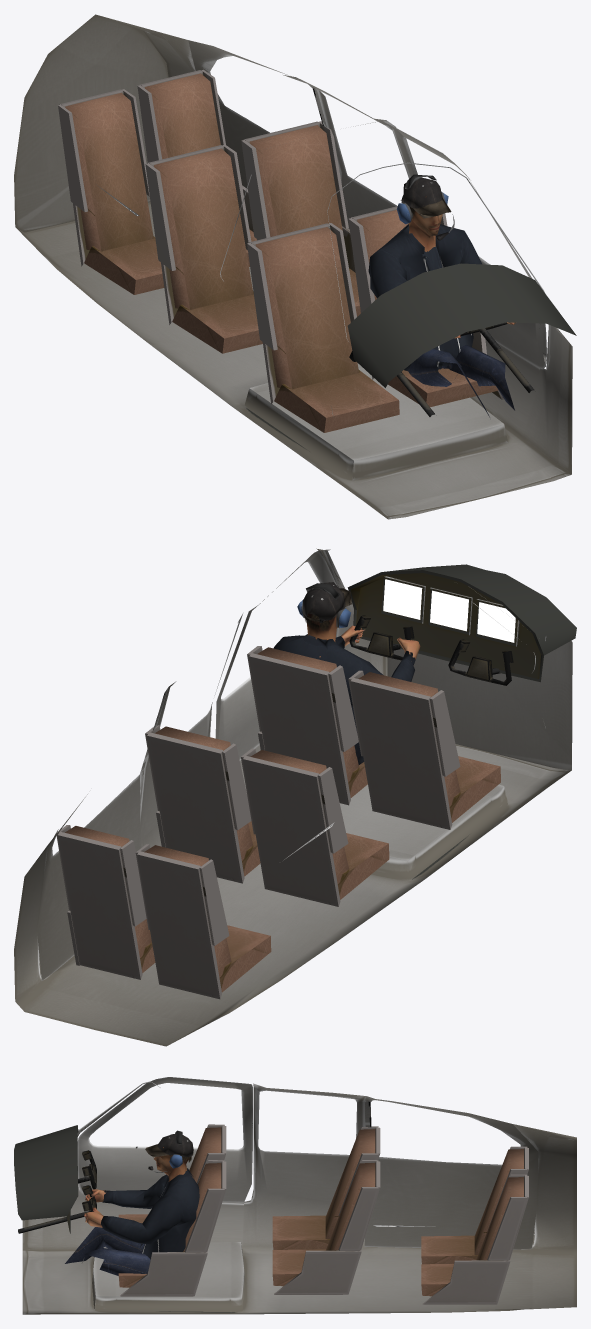
File: GaugeAircraft_Interior_LOD01.gltf
3 views of the same model, one above another, from view 1: azimuth 30°, elevation 25°; view 2: azimuth 150°, elevation 25°; view 3: azimuth 270°, elevation 25° (orthographic). The views are drawn at different scales.
Visible parts, largest first — view 1: Interior, pilot; view 2: Interior, pilot, Screens; view 3: Interior, pilot.
Boxes of the visible parts, x1=… form: Interior: x1=14, y1=14, x2=576, y2=519; pilot: x1=368, y1=174, x2=515, y2=417; Interior: x1=14, y1=548, x2=576, y2=1046; pilot: x1=273, y1=582, x2=420, y2=764; Screens: x1=383, y1=579, x2=515, y2=642; Interior: x1=14, y1=1077, x2=576, y2=1314; pilot: x1=65, y1=1130, x2=199, y2=1275.
Size of the model in its own units: 1.2 by 1.36 by 3.7.
